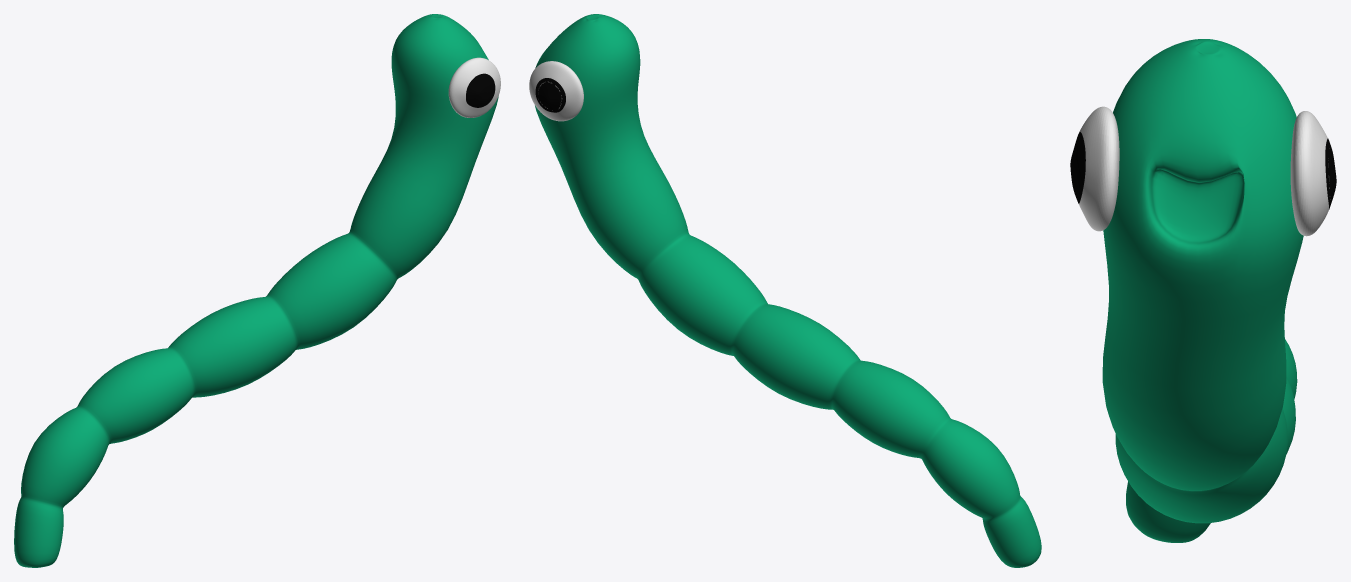
The model's file is serpiente.fbx.
3 renders of one model, left to right at view 1: azimuth 30°, elevation 25°; view 2: azimuth 150°, elevation 25°; view 3: azimuth 270°, elevation 25°, orthographic. The views are drawn at different scales.
Visible parts, largest first — view 1: BezierCurve; view 2: BezierCurve; view 3: BezierCurve.
Part boxes in pixels (bbox=[...]): BezierCurve: bbox=[14, 14, 500, 567]; BezierCurve: bbox=[529, 14, 1041, 567]; BezierCurve: bbox=[1070, 39, 1336, 542].
Bounding box in the file's own units: 313 × 275 × 74.64.
